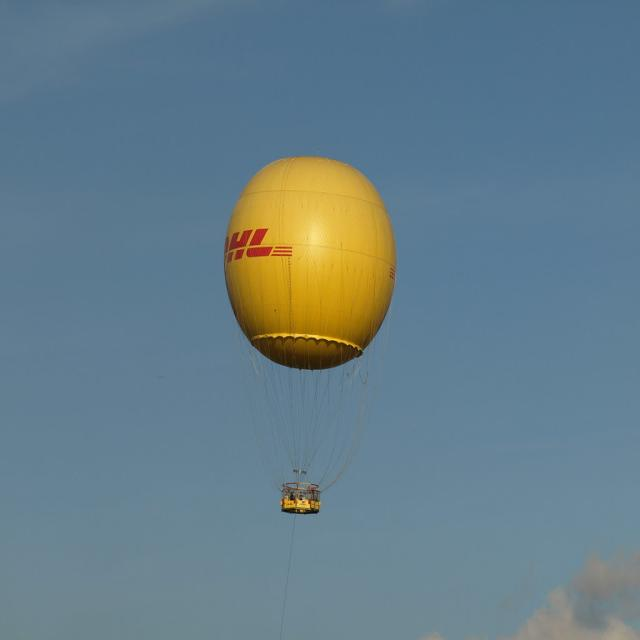balloon: (223, 154, 398, 372)
